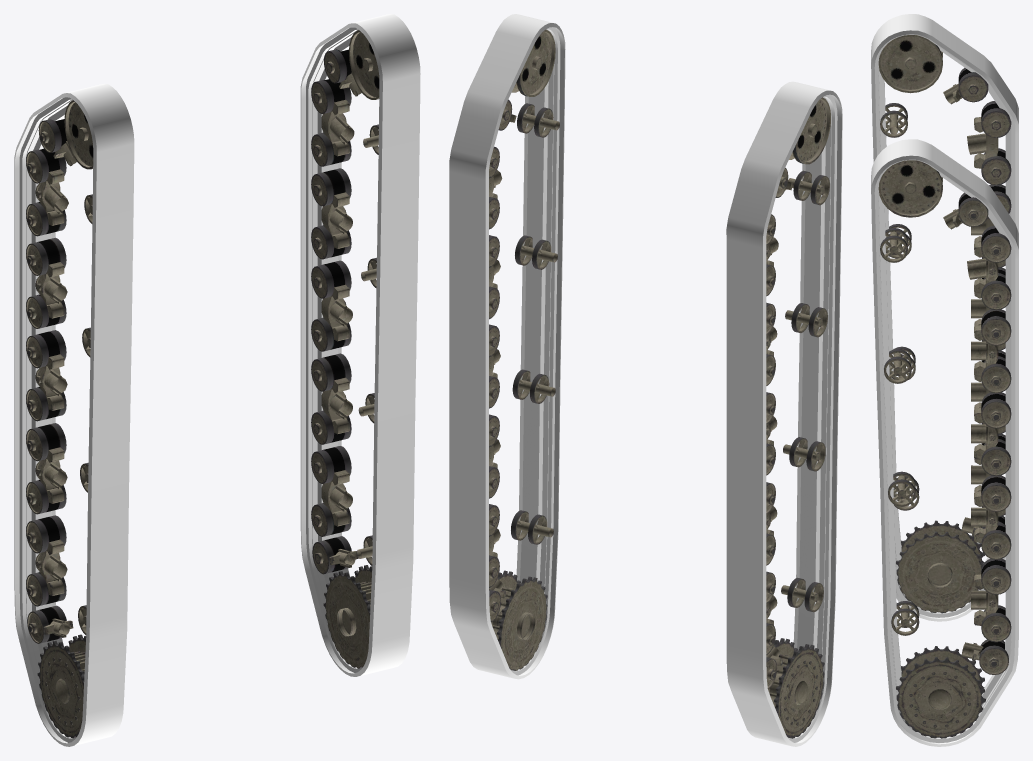
The model's file is Chassis.glb.
The picture shows the model from 3 angles, left to right: view 1: azimuth 30°, elevation 25°; view 2: azimuth 150°, elevation 25°; view 3: azimuth 270°, elevation 25°; orthographic projection. The views are drawn at different scales.
Parts seen in each view (by area): view 1: set_0_group_0, set_1_group_0, set_5_group_0, set_3_group_0, set_4_group_0, set_2_group_0; view 2: set_0_group_0, set_1_group_0, set_5_group_0, set_3_group_0, set_4_group_0, set_2_group_0; view 3: set_5_group_0, set_1_group_0, set_3_group_0, set_0_group_0, set_4_group_0, set_2_group_0.
Part boxes in pixels (x1,y1,x2,y2): set_0_group_0: (14, 84, 134, 746); set_1_group_0: (300, 14, 420, 676); set_5_group_0: (311, 30, 379, 668); set_3_group_0: (26, 100, 93, 738); set_4_group_0: (321, 99, 354, 434); set_2_group_0: (35, 169, 68, 503); set_0_group_0: (726, 81, 842, 746); set_1_group_0: (449, 14, 565, 679); set_5_group_0: (489, 29, 559, 670); set_3_group_0: (766, 97, 830, 738); set_4_group_0: (489, 170, 502, 468); set_2_group_0: (766, 236, 778, 535); set_5_group_0: (878, 160, 1011, 738); set_1_group_0: (871, 139, 1018, 746); set_3_group_0: (878, 35, 1011, 613); set_0_group_0: (871, 14, 1018, 621); set_4_group_0: (967, 242, 998, 542); set_2_group_0: (967, 117, 998, 408).
Bounding box in the file's own units: 2.67 × 5.15 × 1.17.
Materials: 6 (4 with a texture image).
